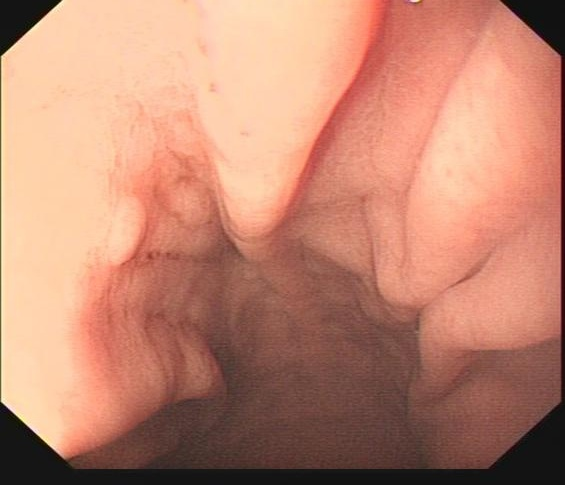Polyp: (92, 190, 148, 270), (152, 177, 219, 232)
